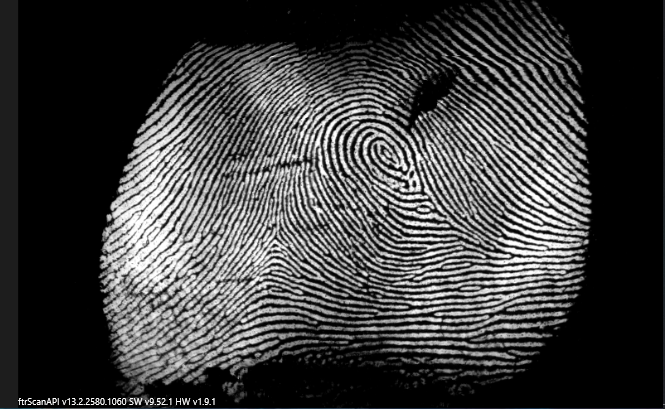deltas: (255, 214, 298, 264)
nucleo: (360, 129, 412, 183)
